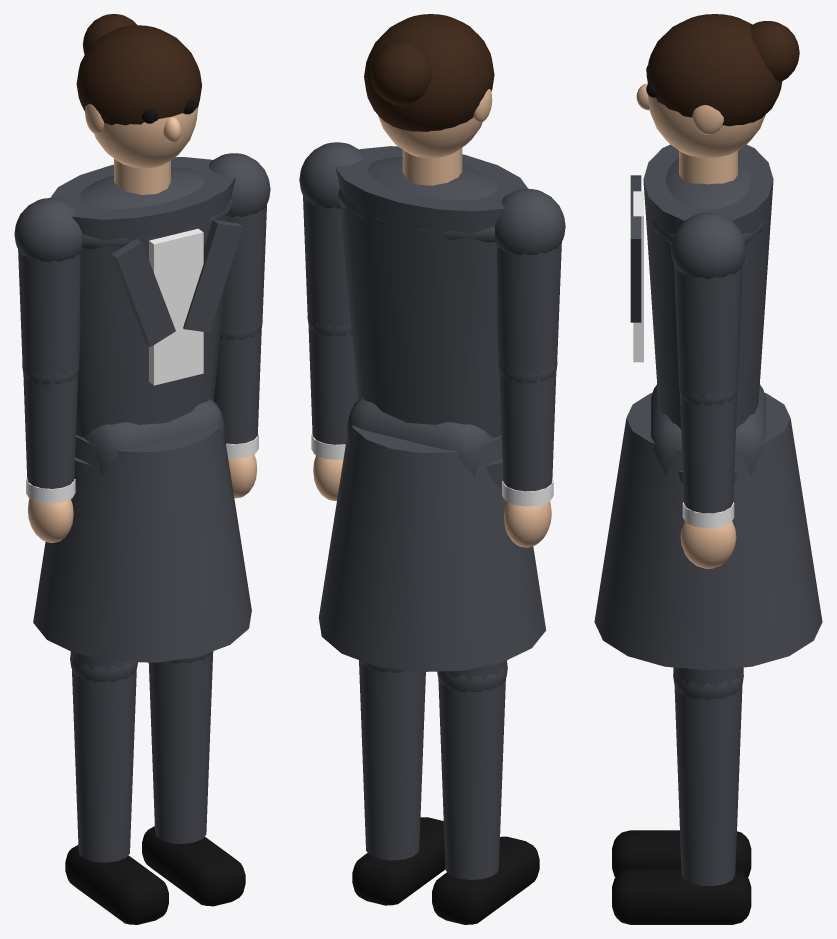
File: chica_ejecutiva.glb
3 renders of one model, left to right at view 1: azimuth 30°, elevation 25°; view 2: azimuth 150°, elevation 25°; view 3: azimuth 270°, elevation 25°, orthographic. The views are drawn at different scales.
Visible parts, largest first — view 1: body, arm_L, leg_L, leg_R, arm_R; view 2: body, arm_L, leg_L, leg_R, arm_R; view 3: body, arm_R, leg_R, leg_L.
Part boxes in pixels (x1,y1,x2,y2): body: (33,14,251,662); arm_L: (14,198,82,542); leg_L: (65,457,168,924); leg_R: (142,651,245,906); arm_R: (209,153,270,498); body: (318,14,545,671); arm_L: (495,189,565,547); leg_L: (432,458,539,924); leg_R: (352,660,445,905); arm_R: (299,142,363,500); body: (594,14,822,670); arm_R: (671,212,745,568); leg_R: (612,470,751,924); leg_L: (612,830,751,877).
Size of the model in its own units: 0.548 by 1.81 by 0.425.
